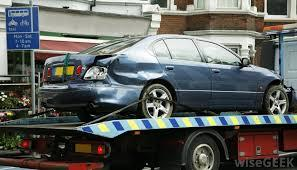Bumper: (76, 85, 140, 108)
Fender: (101, 47, 178, 86)
Light: (83, 58, 116, 80)
